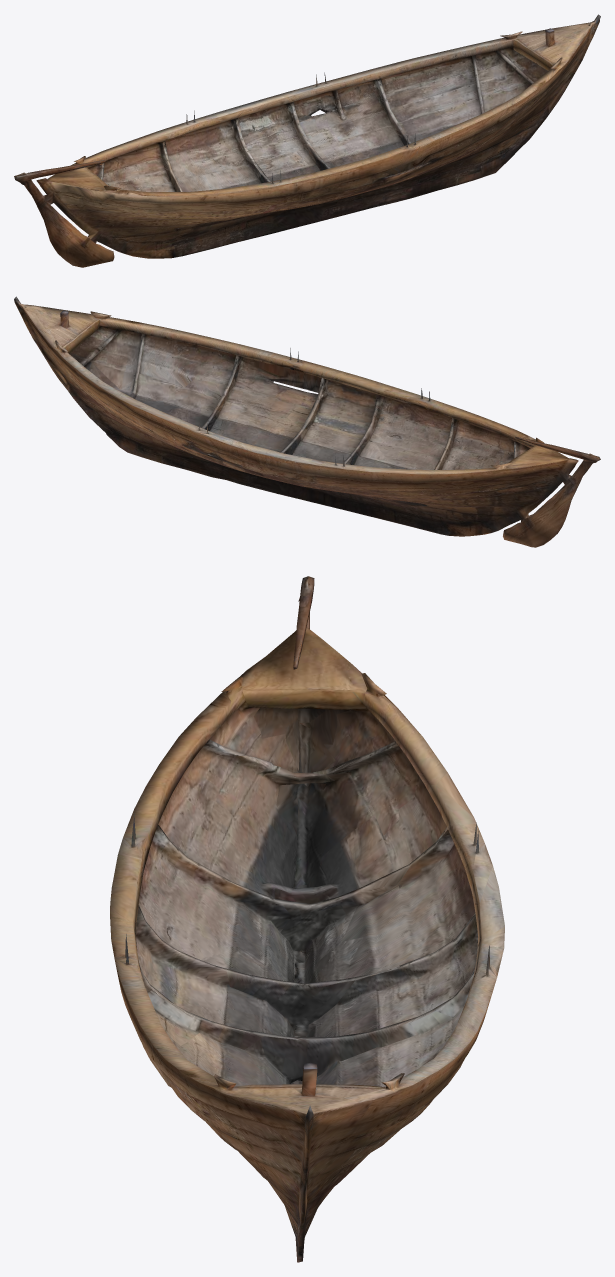
File: fourareen_boat.glb
3 renders of one model, top to bottom at view 1: azimuth 30°, elevation 25°; view 2: azimuth 150°, elevation 25°; view 3: azimuth 270°, elevation 25°, orthographic. The views are drawn at different scales.
Parts seen in each view (by area): view 1: fourareen_boat; view 2: fourareen_boat; view 3: fourareen_boat.
Boxes of the visible parts, x1,y1,x2,y2 form: fourareen_boat: (14,14,600,267); fourareen_boat: (14,296,600,547); fourareen_boat: (110,576,504,1262).
Bounding box in the file's own units: 5.39 × 1.2 × 1.58.
1 material, 1 textured.
